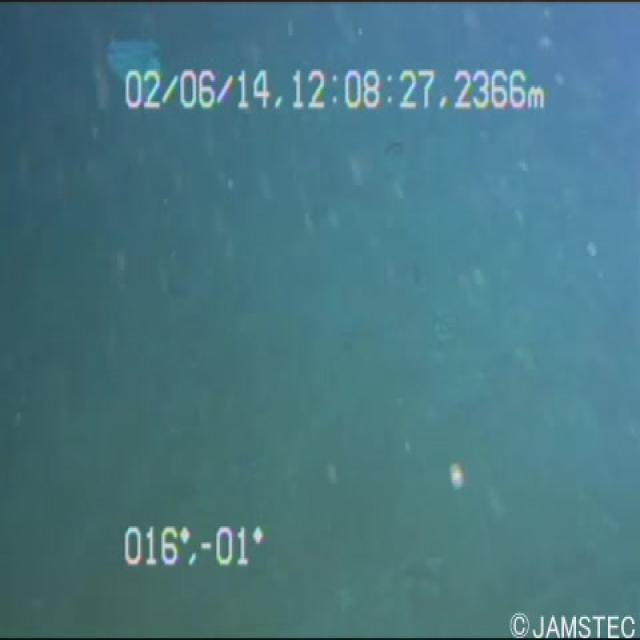plastic: (73, 27, 171, 103)
